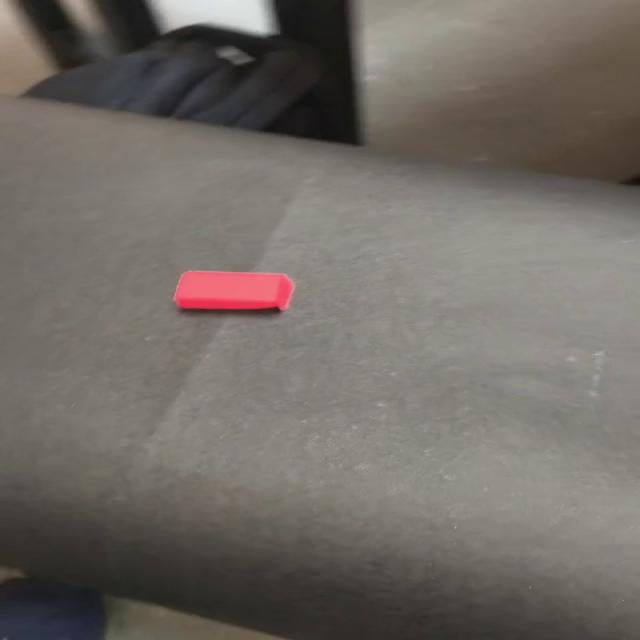red block: (172, 269, 295, 312)
